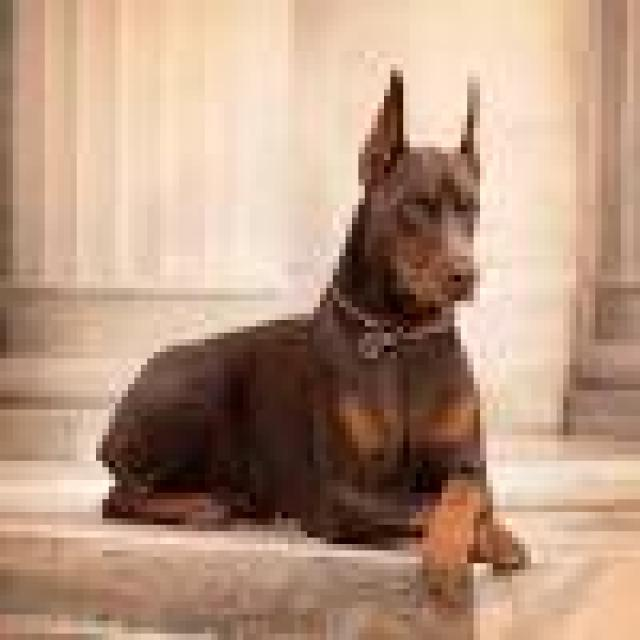Dog: (90, 64, 538, 609)
